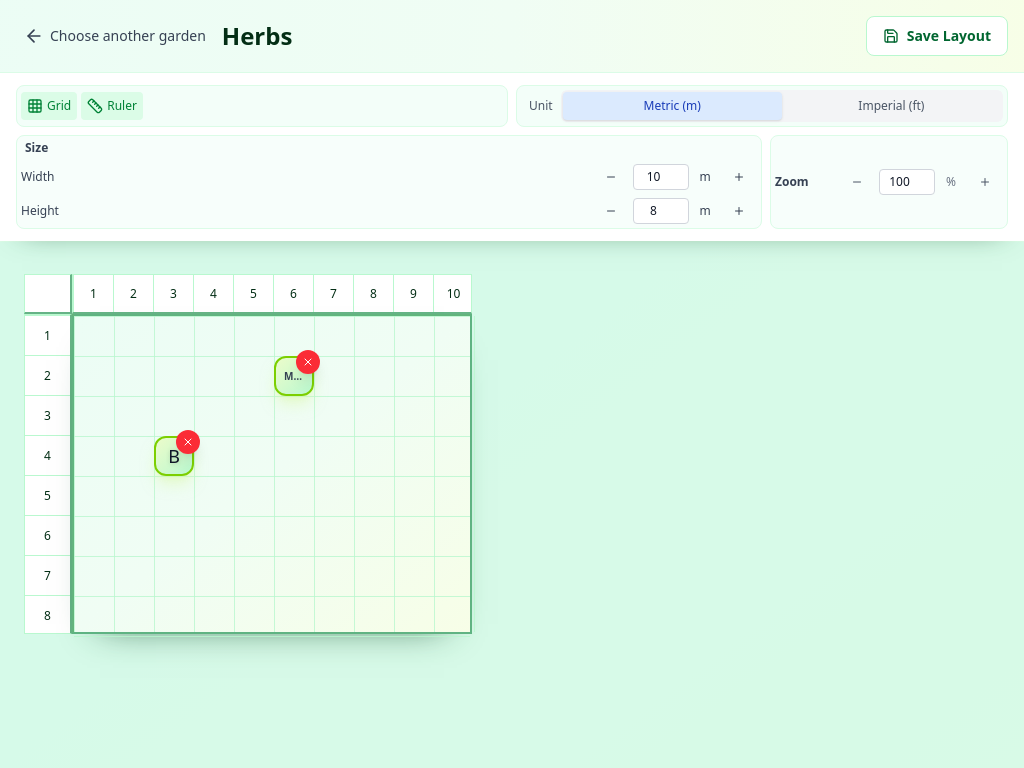
Test: saves changed dimensions and plants together and only reports success after completion
Expected: the button named "Remove Mint" is shown, x1=296 y1=350 x2=320 y2=374
What coordinates should you click on to do the following:
click the button named "Increase garden width"
I would click on:
 (739, 177)
Its box is x1=721 y1=167 x2=757 y2=187.
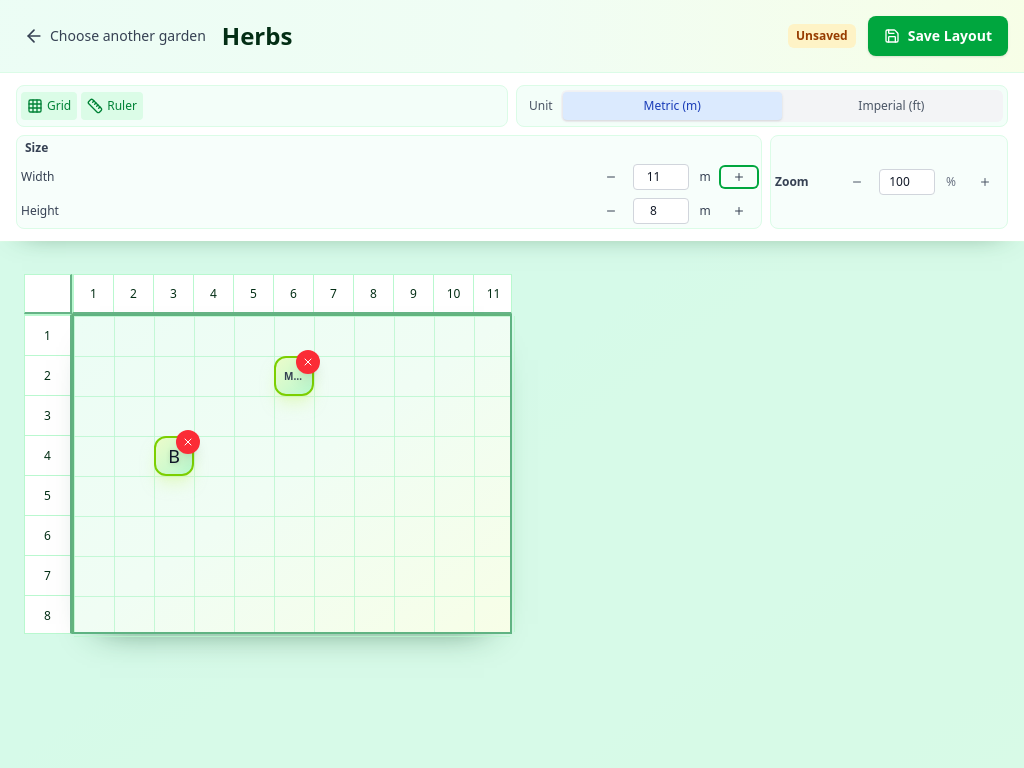
What coordinates should you click on to do the following:
click the button named "Remove Mint"
I would click on:
 (308, 362)
Its box is x1=296 y1=350 x2=320 y2=374.
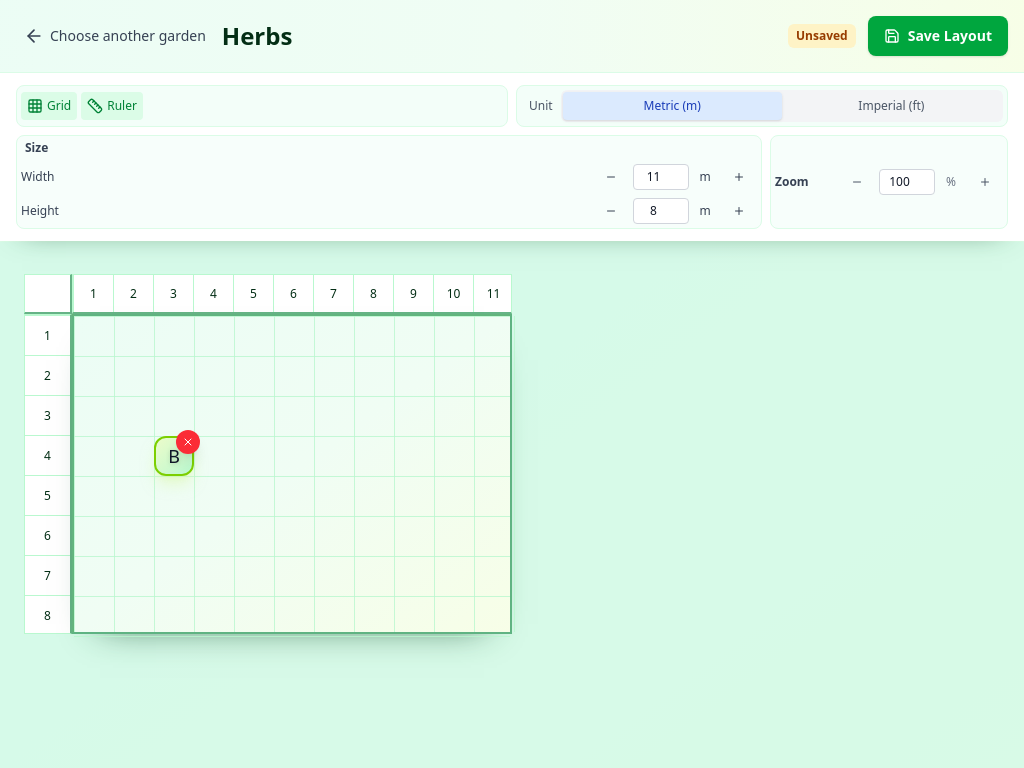
What coordinates should you click on to do the following:
click the button with aria-label "Save garden"
I would click on:
 (938, 36)
Its box is x1=868 y1=16 x2=1008 y2=56.
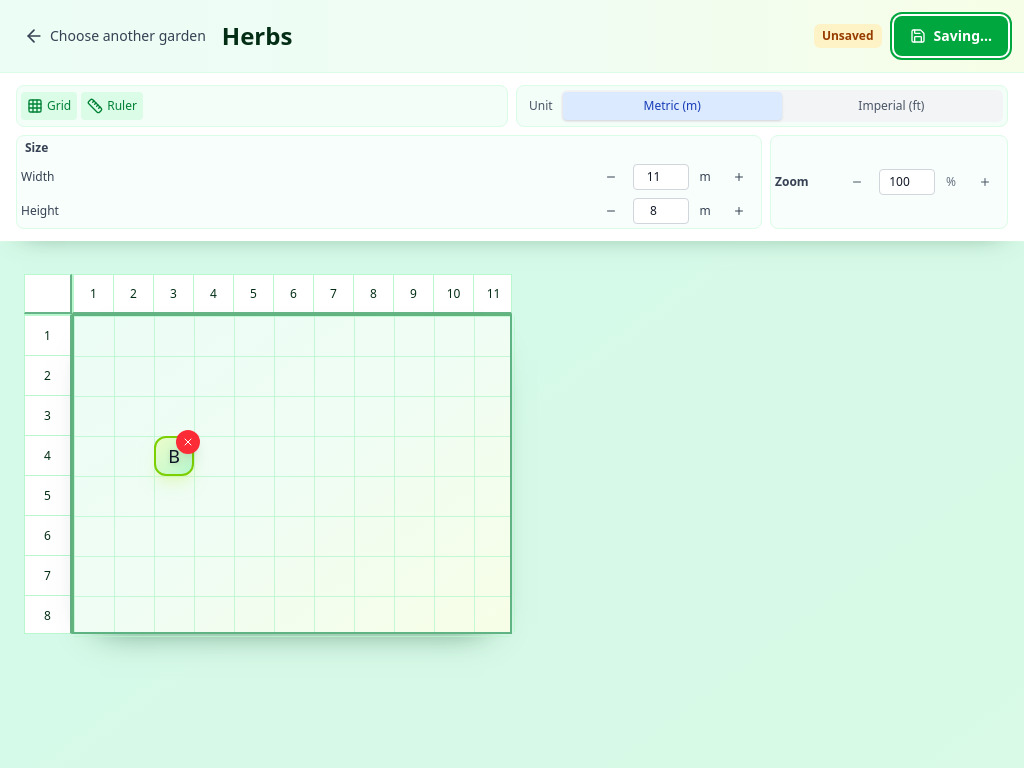
Expected: the text "Layout saved." is not shown
Now the text "Saving..." is shown, box x1=934 y1=26 x2=992 y2=46
What coordinates should you click on to do the following:
click the button with aria-label "Save garden"
I would click on:
 (951, 36)
Its box is x1=894 y1=16 x2=1008 y2=56.
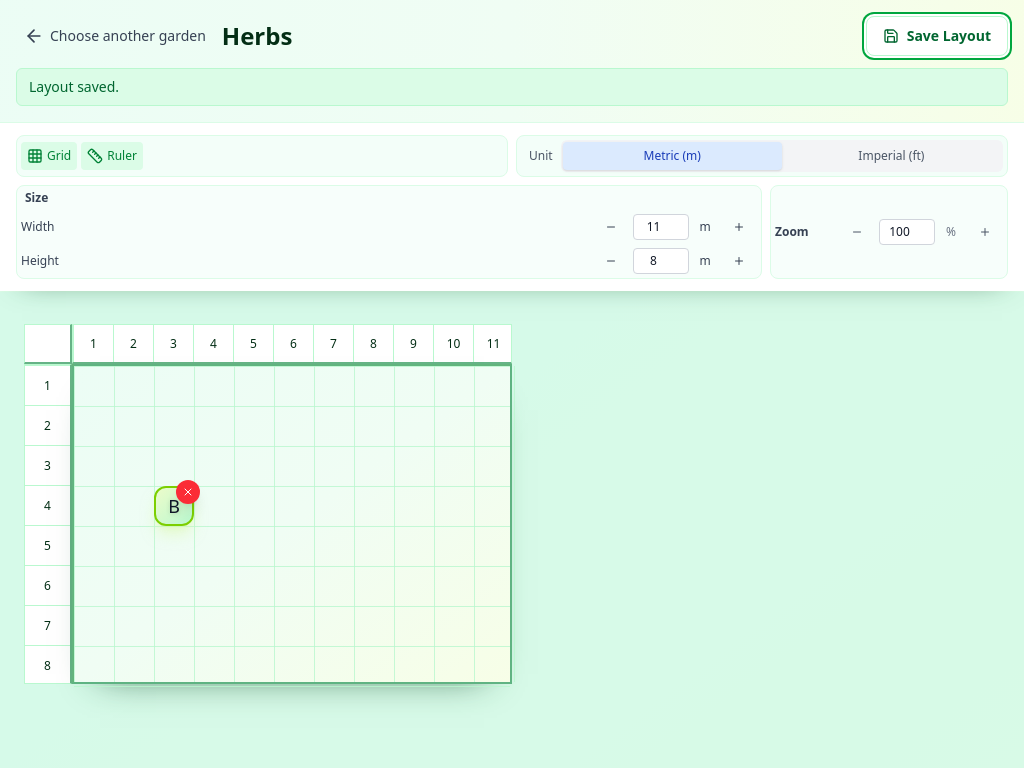
Now the text "Layout saved." is shown, box x1=16 y1=68 x2=1008 y2=106
What coordinates should you click on to do the following:
click the button with aria-label "Save garden"
I would click on:
 (937, 36)
Its box is x1=866 y1=16 x2=1008 y2=56.
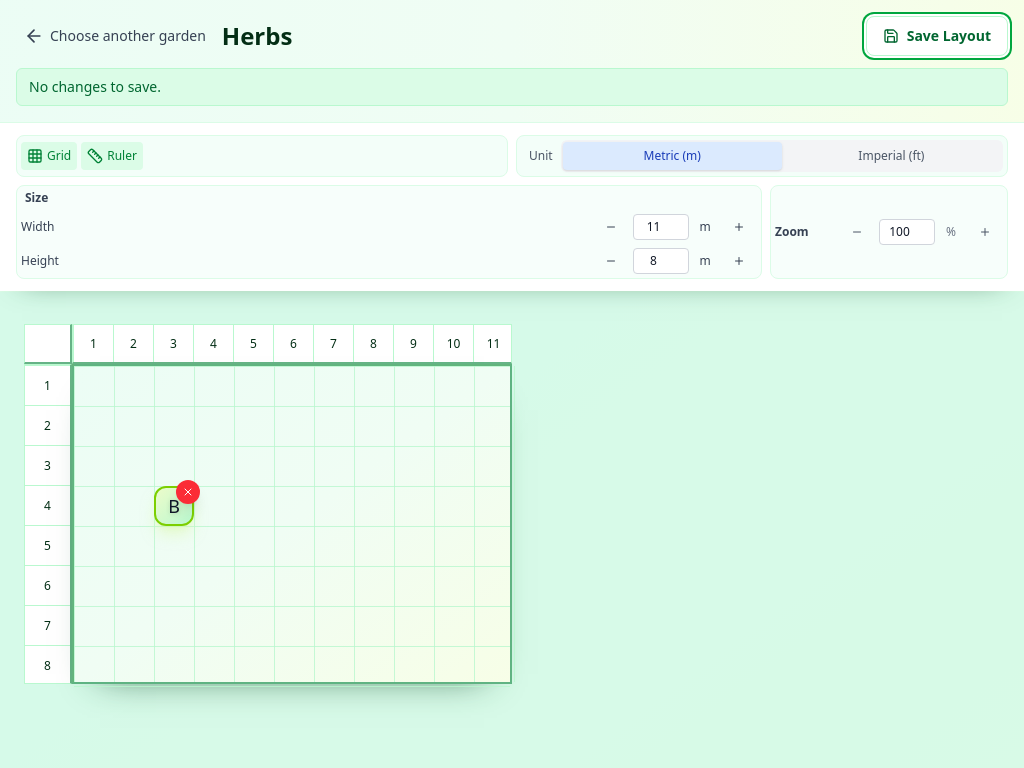
Now the text "No changes to save." is shown, box x1=16 y1=68 x2=1008 y2=106
